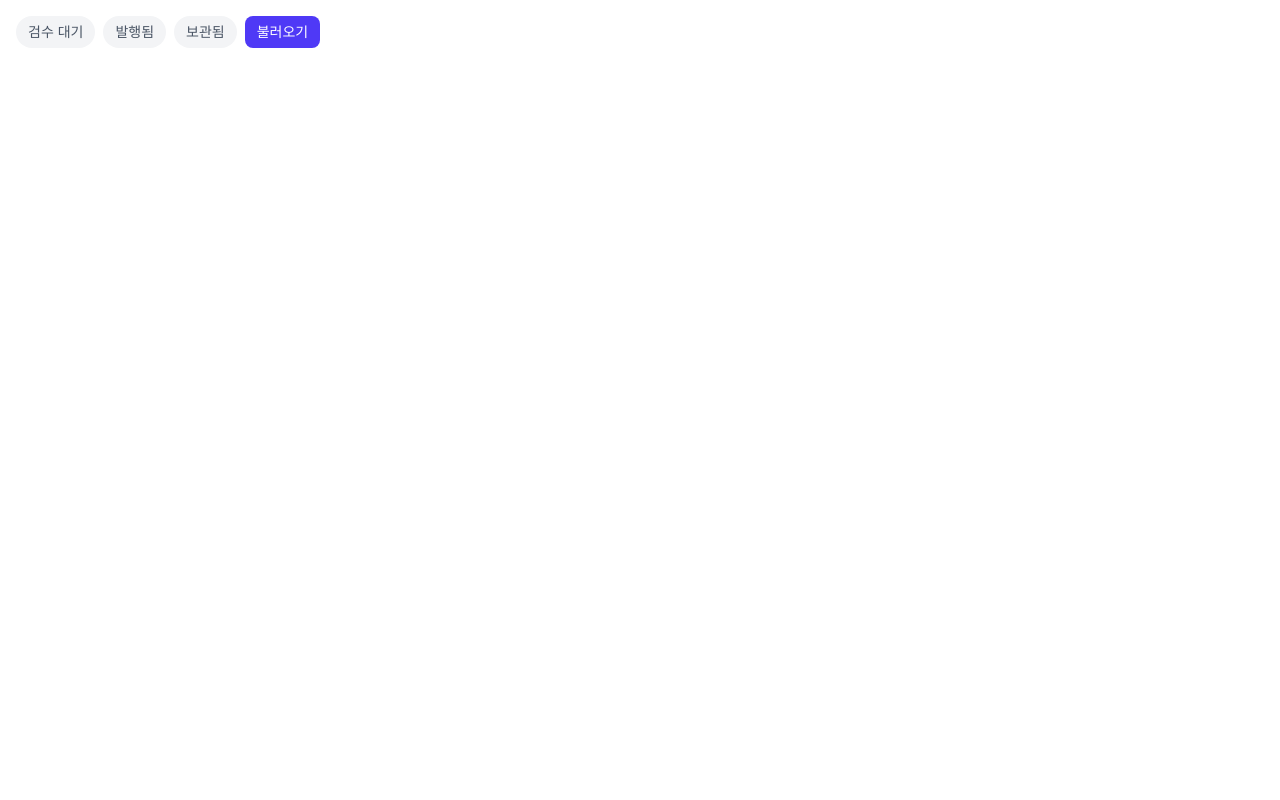
Test: SpotNoticesPanel › 발행 버튼을 누르면 PATCH로 status=published를 전송하고 목록에서 사라진다(pending 탭 기준)
Click the button "불러오기" at (282, 32), box [245,16,320,48]
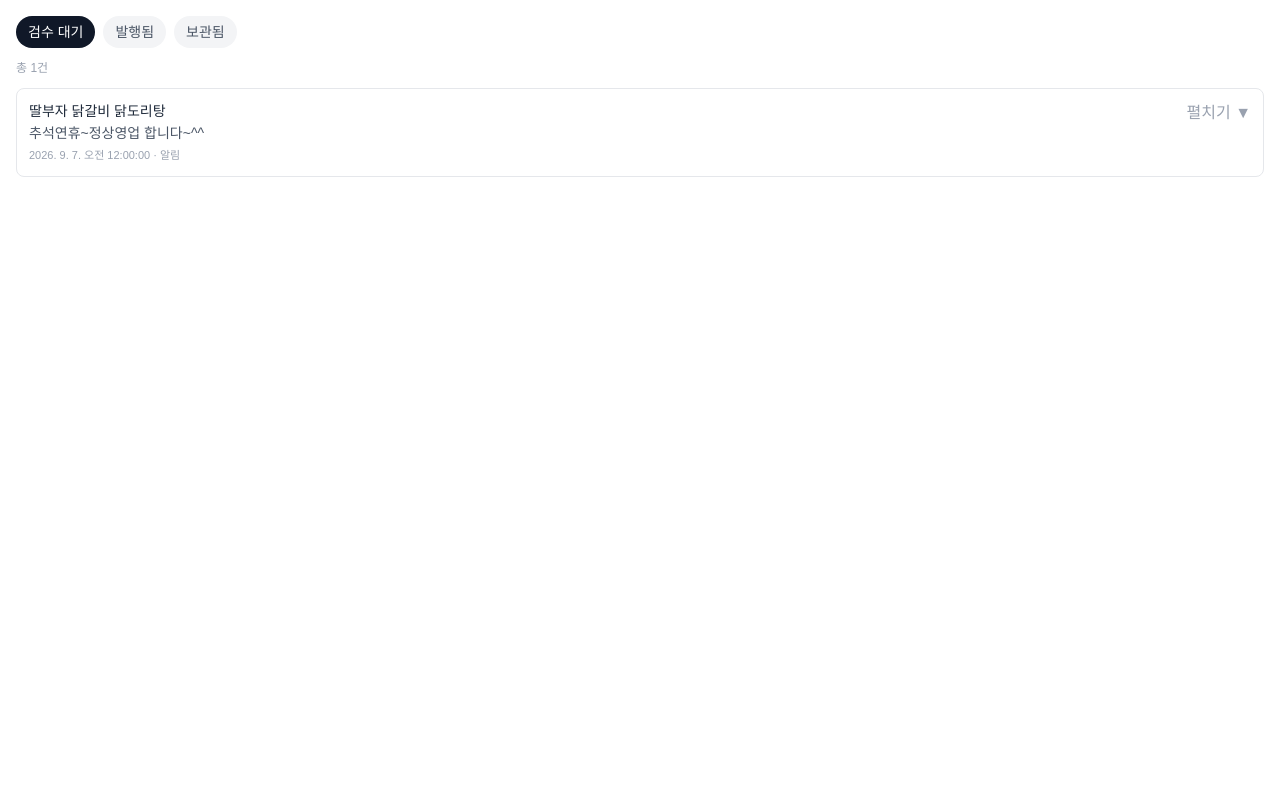
Expected: the text "딸부자 닭갈비 닭도리탕" is shown, [29,103,166,119]
Click the text "펼치기 ▼" at (1219, 113), box [1186,101,1251,125]
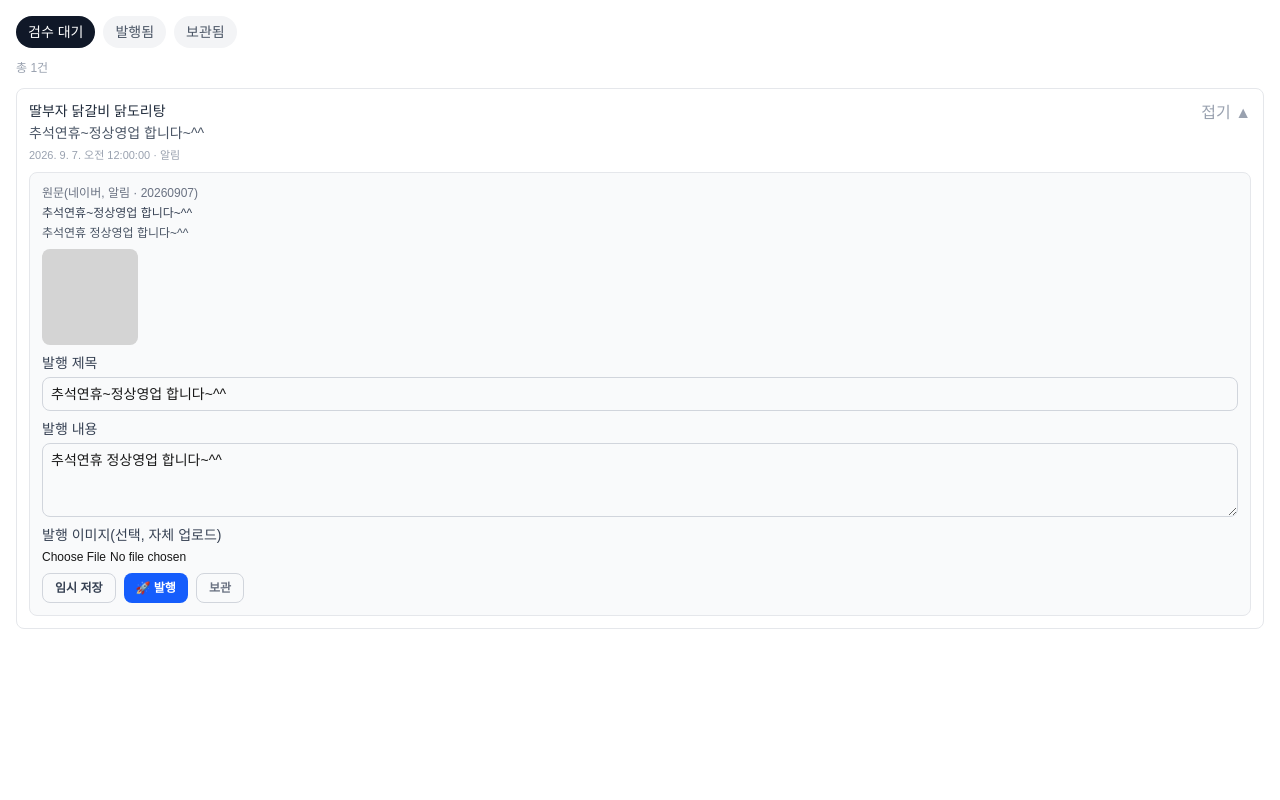
Click the button "🚀 발행" at (156, 588), box [124,572,188,602]
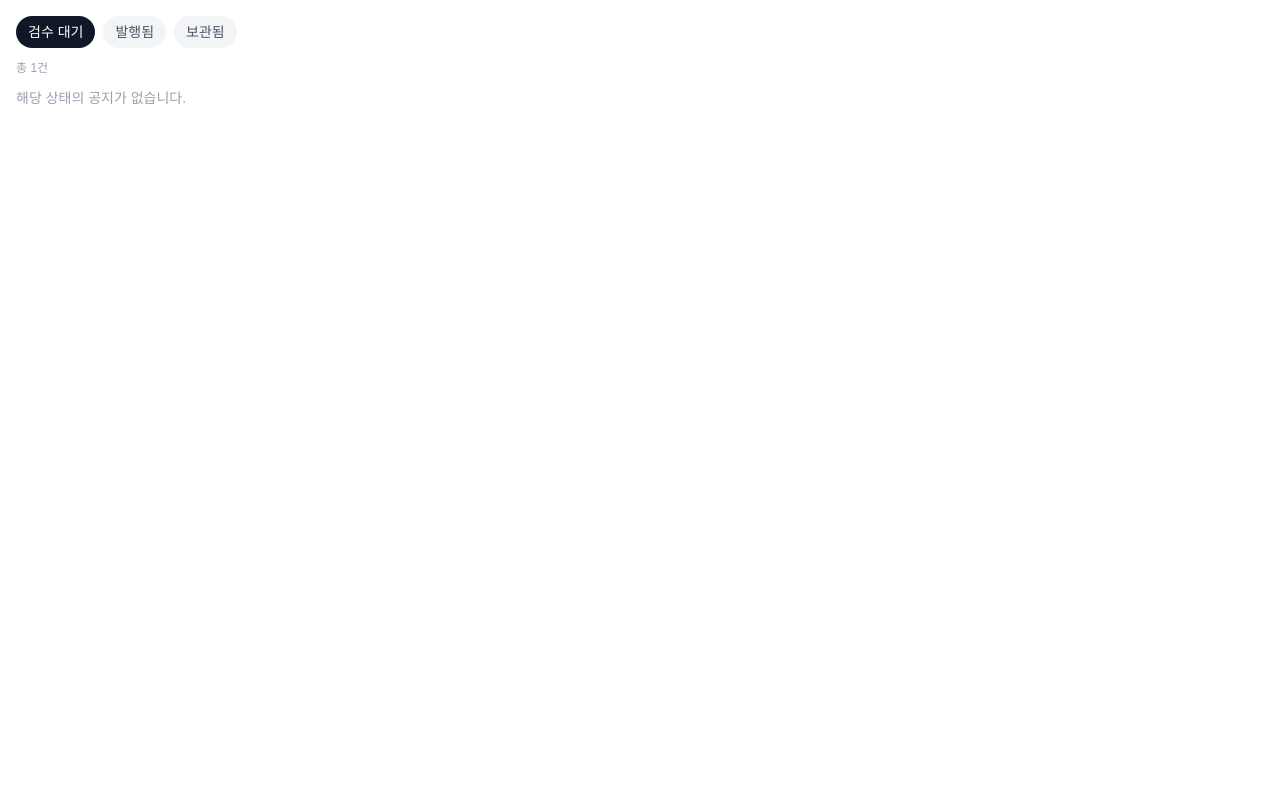
Expected: the button "딸부자 닭갈비 닭도리탕" is gone
